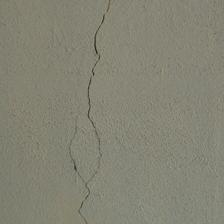Crack: (20, 0, 77, 109), (0, 0, 61, 94), (82, 40, 102, 75)
